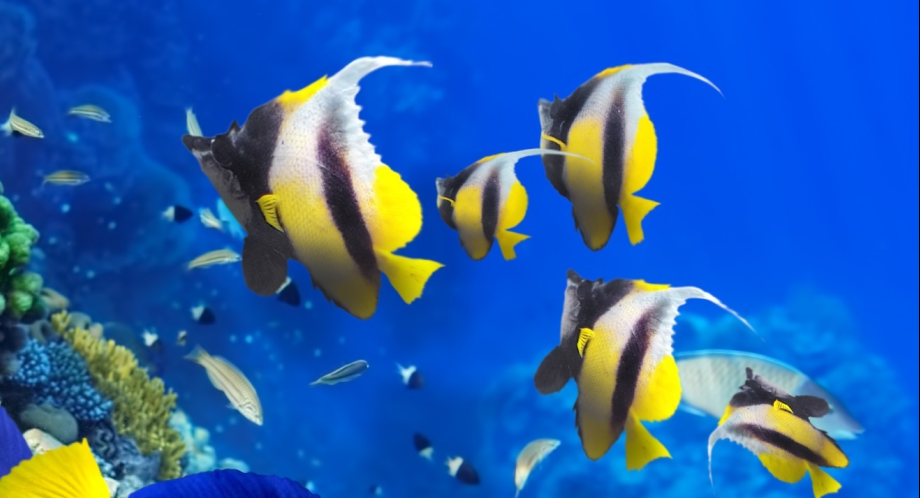fishLarge: (670, 347, 867, 442)
fishRound: (182, 55, 445, 320), (530, 267, 766, 472), (536, 61, 727, 252), (433, 144, 595, 263), (704, 367, 848, 498)
fishSmall: (183, 340, 267, 426), (508, 434, 563, 497), (309, 358, 374, 388), (7, 102, 46, 144), (189, 245, 245, 273), (442, 454, 481, 487), (65, 101, 113, 126), (38, 169, 93, 190), (275, 275, 304, 310), (197, 204, 229, 235), (413, 428, 436, 465), (157, 201, 191, 226), (395, 360, 424, 388), (138, 327, 163, 355), (188, 302, 215, 325)
